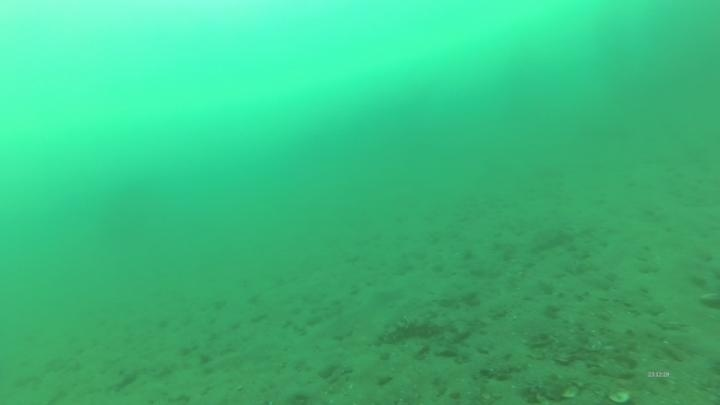holothurian: (375, 312, 453, 347)
